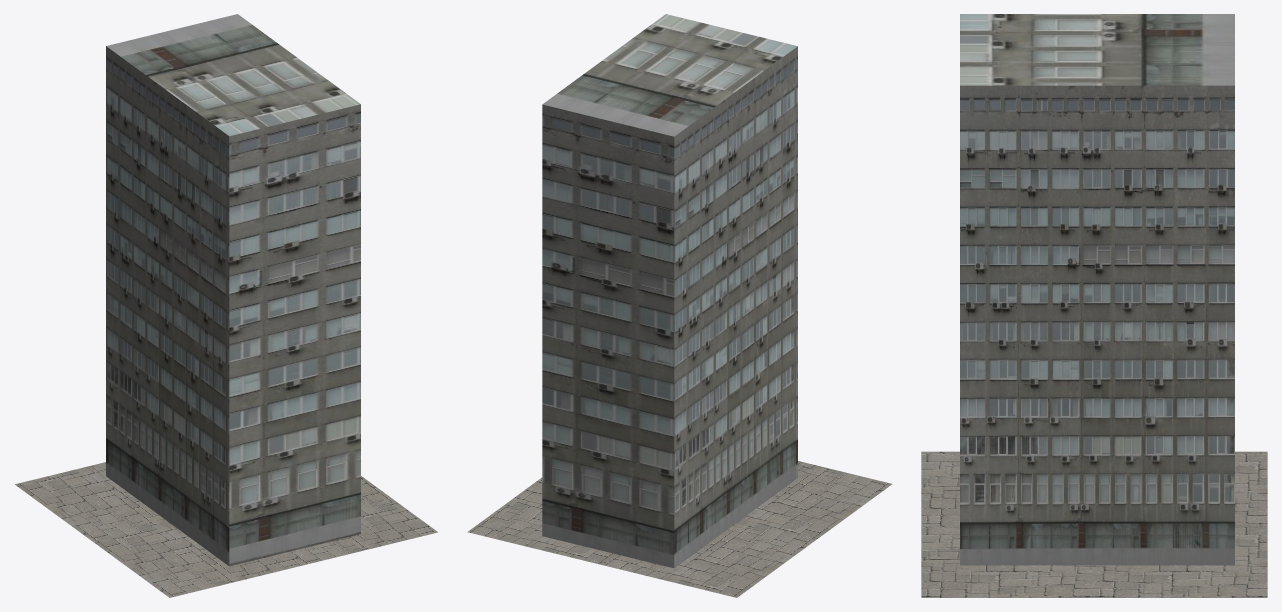
File: building5.fbx
The picture shows the model from 3 angles, left to right: view 1: azimuth 30°, elevation 25°; view 2: azimuth 150°, elevation 25°; view 3: azimuth 270°, elevation 25°; orthographic projection. The views are drawn at different scales.
Visible parts, largest first — view 1: pCube8, pasted__pasted__pasted__pasted__pPlane4 (×2), pasted__pasted__pasted__pasted__pasted__pPlane4; view 2: pCube8, pasted__pasted__pasted__pasted__pPlane4, pasted__pasted__pasted__pasted__pasted__pPlane4, pasted__pasted__pasted__pPlane4; view 3: pCube8, pasted__pasted__pasted__pasted__pPlane4 (×2), pasted__pasted__pasted__pPlane4, pasted__pasted__pasted__pasted__pasted__pPlane4.
Part boxes in pixels (<box>): pCube8: <box>106,14,360,566</box>; pasted__pasted__pasted__pasted__pPlane4 (×2): <box>15,462,437,564</box>; pasted__pasted__pasted__pasted__pasted__pPlane4: <box>92,522,303,597</box>; pCube8: <box>542,14,797,568</box>; pasted__pasted__pasted__pasted__pPlane4: <box>602,522,814,597</box>; pasted__pasted__pasted__pasted__pasted__pPlane4: <box>738,461,892,540</box>; pasted__pasted__pasted__pPlane4: <box>467,477,616,564</box>; pCube8: <box>960,14,1234,565</box>; pasted__pasted__pasted__pasted__pPlane4 (×2): <box>921,451,1267,597</box>; pasted__pasted__pasted__pPlane4: <box>1094,525,1267,597</box>; pasted__pasted__pasted__pasted__pasted__pPlane4: <box>921,451,959,524</box>.
Size of the model in its own units: 20 by 30.58 by 20.
3 materials, 3 textured.
